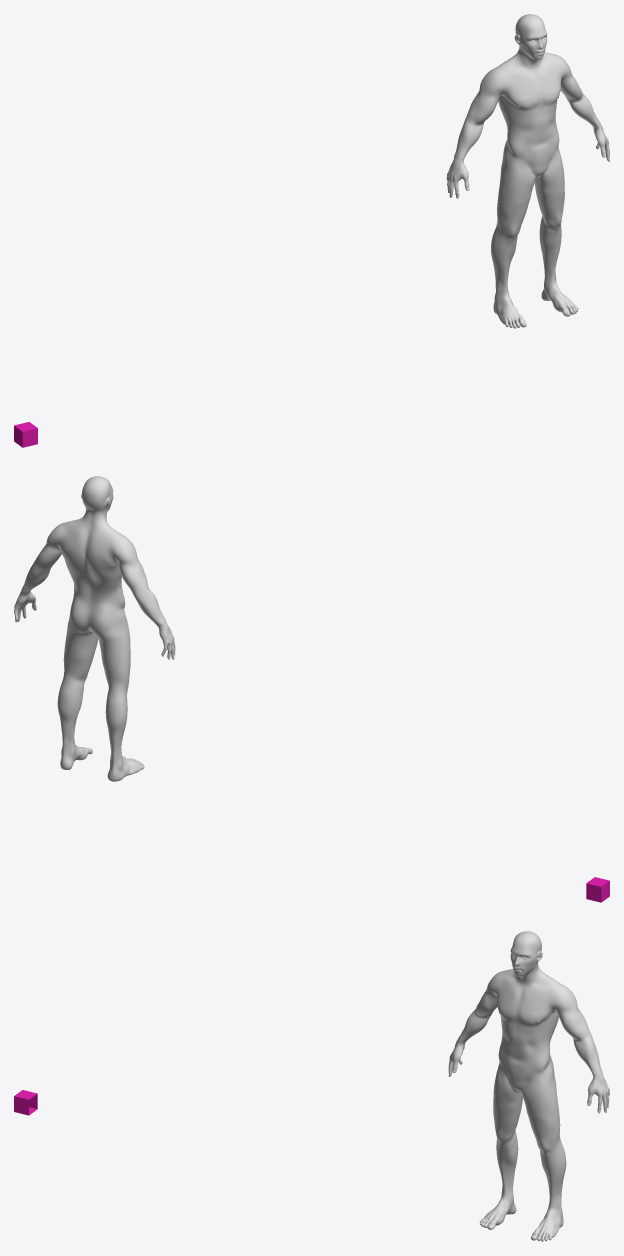
Rendered from tezt-cube-tarjetas.glb.
The picture shows the model from 3 angles, top to bottom: view 1: azimuth 30°, elevation 25°; view 2: azimuth 150°, elevation 25°; view 3: azimuth 330°, elevation 25°; orthographic projection.
Visible parts, largest first — view 1: Human_1.8_Meters_Group1; view 2: Human_1.8_Meters_Group1; view 3: Human_1.8_Meters_Group1, Cube.003.
Boxes of the visible parts, bbox=[...] form: Human_1.8_Meters_Group1: bbox=[446, 14, 609, 328]; Human_1.8_Meters_Group1: bbox=[14, 476, 175, 781]; Human_1.8_Meters_Group1: bbox=[448, 931, 609, 1241]; Cube.003: bbox=[14, 1090, 37, 1115].
Bounding box in the file's own units: 3.89 × 1.9 × 0.3369.
